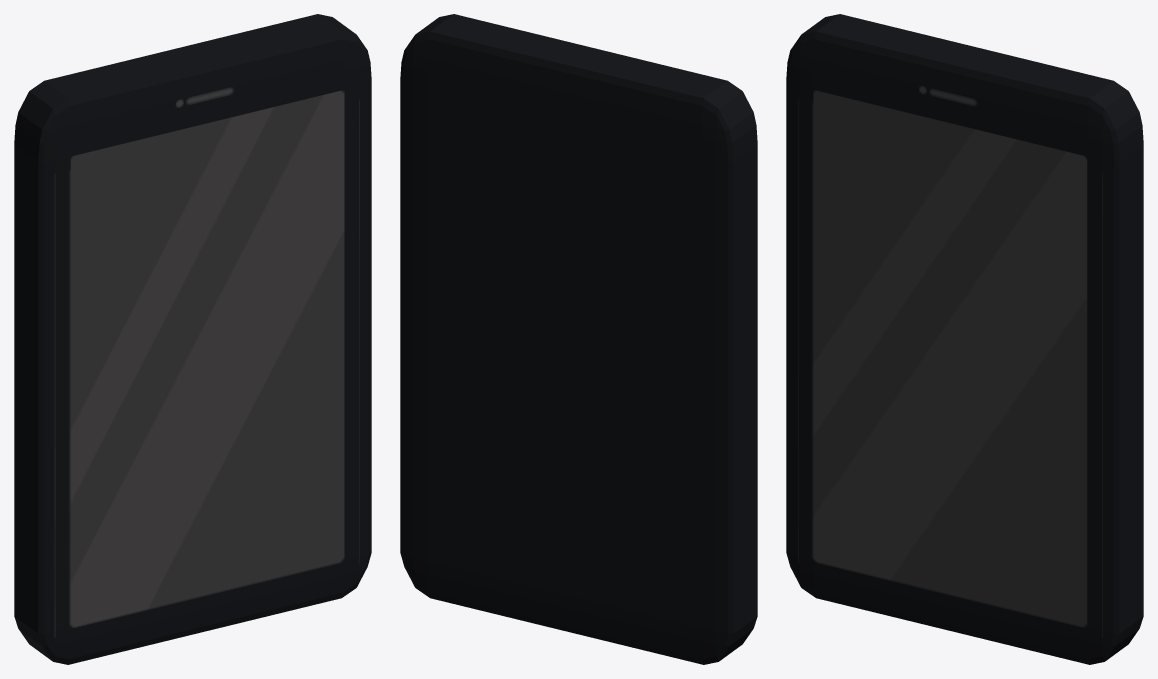
3 views of the same model, side by side, from view 1: azimuth 30°, elevation 25°; view 2: azimuth 150°, elevation 25°; view 3: azimuth 330°, elevation 25° (orthographic).
Visible parts, largest first — view 1: Object_2; view 2: Object_2; view 3: Object_2.
Part boxes in pixels (x1,y1,x2,y2): Object_2: (14, 14, 371, 664); Object_2: (400, 14, 757, 664); Object_2: (786, 14, 1143, 664).
Bounding box in the file's own units: 0.7452 × 1.21 × 0.1133.
1 material, 1 textured.
